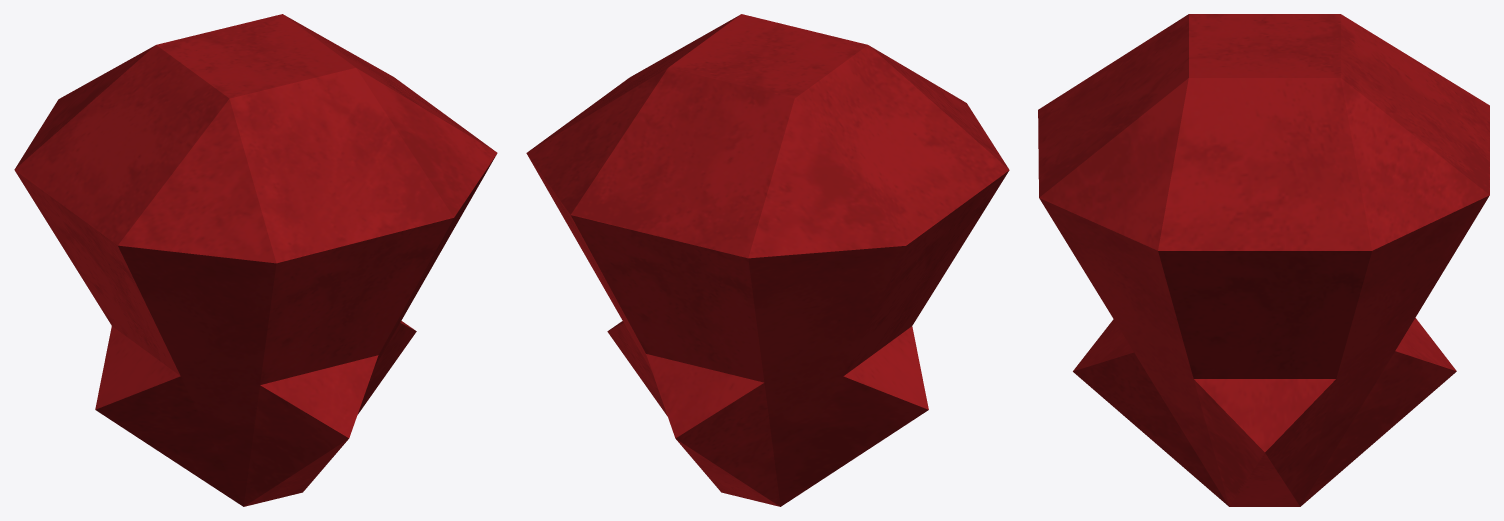
The model's file is GemTX.fbx.
The picture shows the model from 3 angles, left to right: view 1: azimuth 30°, elevation 25°; view 2: azimuth 150°, elevation 25°; view 3: azimuth 270°, elevation 25°; orthographic projection. The views are drawn at different scales.
Visible parts, largest first — view 1: pGem1; view 2: pGem1; view 3: pGem1.
Part boxes in pixels (bbox=[...]): pGem1: bbox=[14, 14, 497, 506]; pGem1: bbox=[526, 14, 1009, 506]; pGem1: bbox=[1038, 14, 1489, 506].
Bounding box in the file's own units: 0.3277 × 0.3552 × 0.3261.
1 material, 1 textured.
